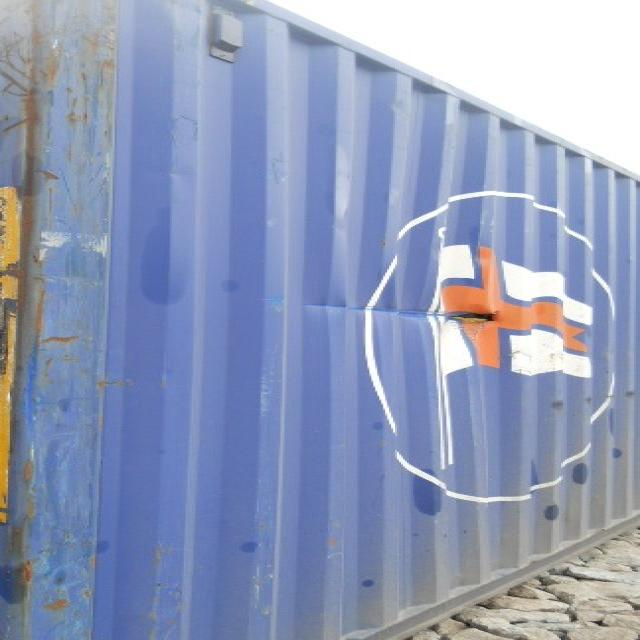hole: (434, 297, 512, 328)
